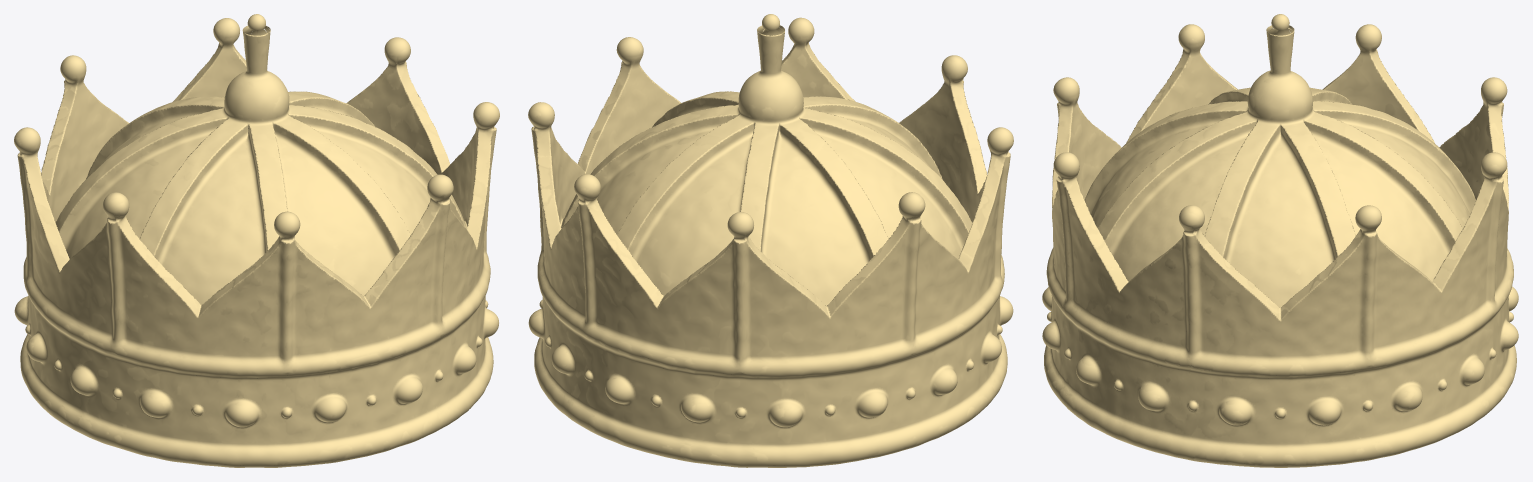
The model's file is crown_lod0.glb.
The picture shows the model from 3 angles, left to right: view 1: azimuth 30°, elevation 25°; view 2: azimuth 150°, elevation 25°; view 3: azimuth 270°, elevation 25°; orthographic projection.
Parts seen in each view (by area): view 1: crown; view 2: crown; view 3: crown.
Boxes of the visible parts, x1,y1,x2,y2 form: crown: (14,14,499,467); crown: (528,14,1013,467); crown: (1042,14,1518,467).
Bounding box in the file's own units: 4.68 × 3.87 × 4.67.
